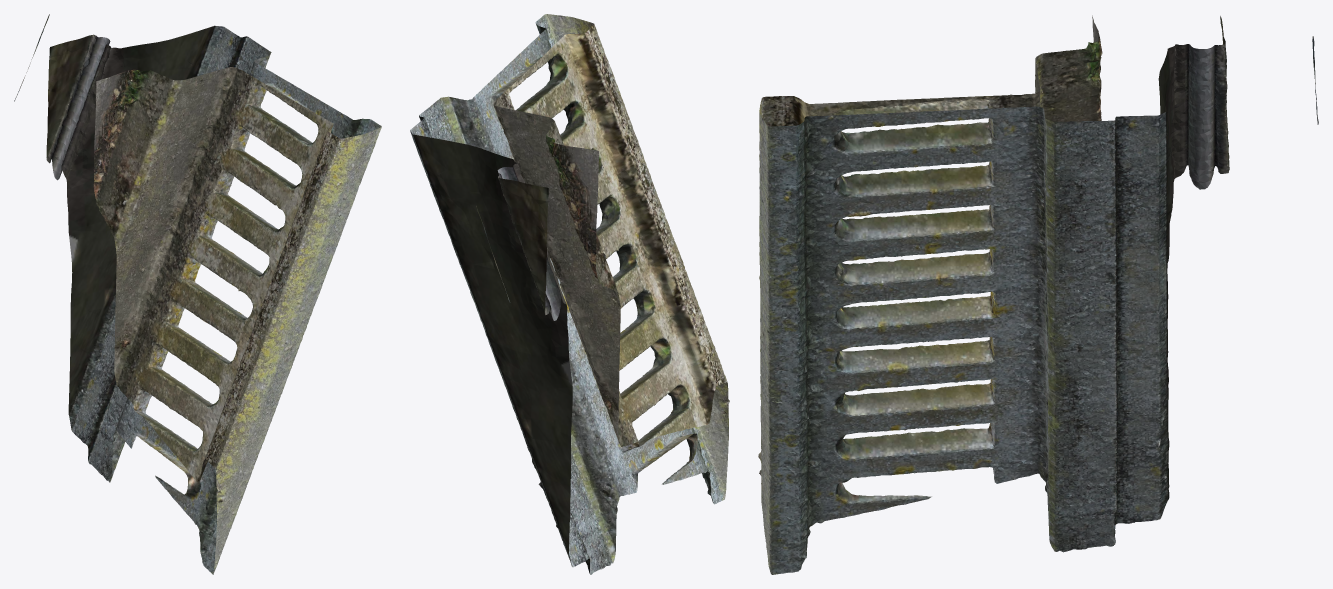
The model's file is Tile_+010_+013.obj.
The picture shows the model from 3 angles, left to right: view 1: azimuth 30°, elevation 25°; view 2: azimuth 150°, elevation 25°; view 3: azimuth 270°, elevation 25°; orthographic projection. The views are drawn at different scales.
Size of the model in its own units: 0.9262 by 2.15 by 1.95.
1 material, 1 textured.
